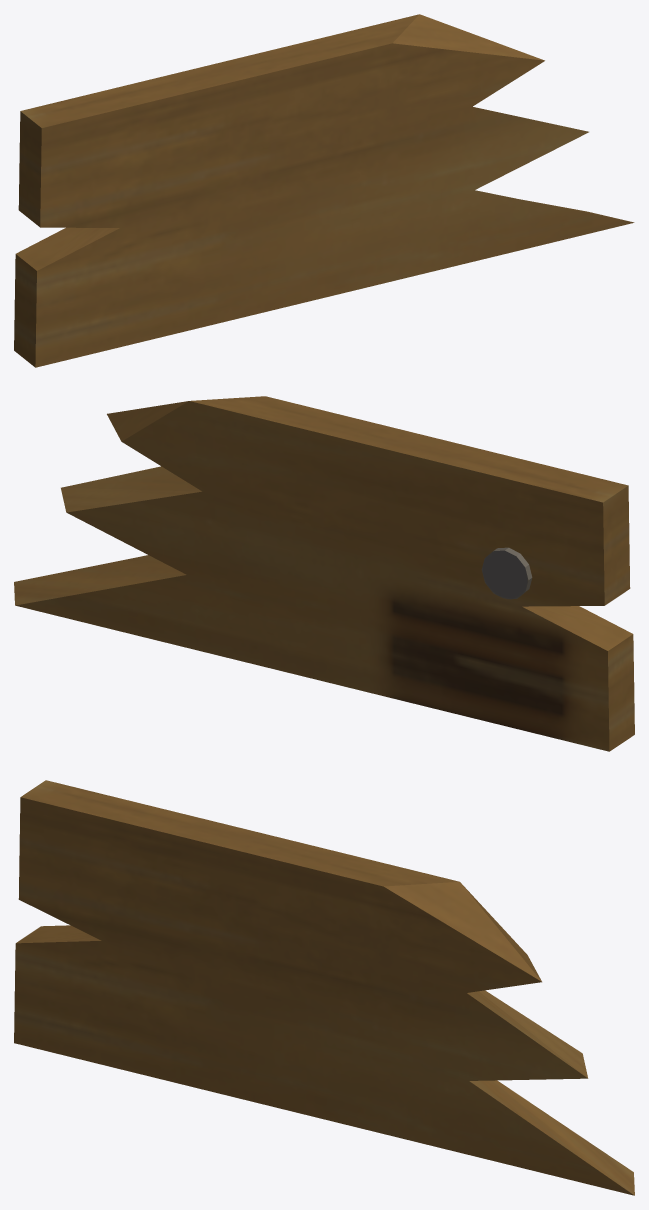
The model's file is brk_woodbox_brkD.fbx.
3 renders of one model, top to bottom at view 1: azimuth 30°, elevation 25°; view 2: azimuth 150°, elevation 25°; view 3: azimuth 330°, elevation 25°, orthographic. The views are drawn at different scales.
Visible parts, largest first — view 1: w5_brk_woodbox_brkD; view 2: w5_brk_woodbox_brkD; view 3: w5_brk_woodbox_brkD.
Part boxes in pixels (x1,y1,x2,y2): w5_brk_woodbox_brkD: (14, 14, 634, 367); w5_brk_woodbox_brkD: (14, 396, 634, 751); w5_brk_woodbox_brkD: (14, 780, 634, 1195).
Bounding box in the file's own units: 1.29 × 0.1054 × 0.4917.
Materials: 1 (1 with a texture image).
